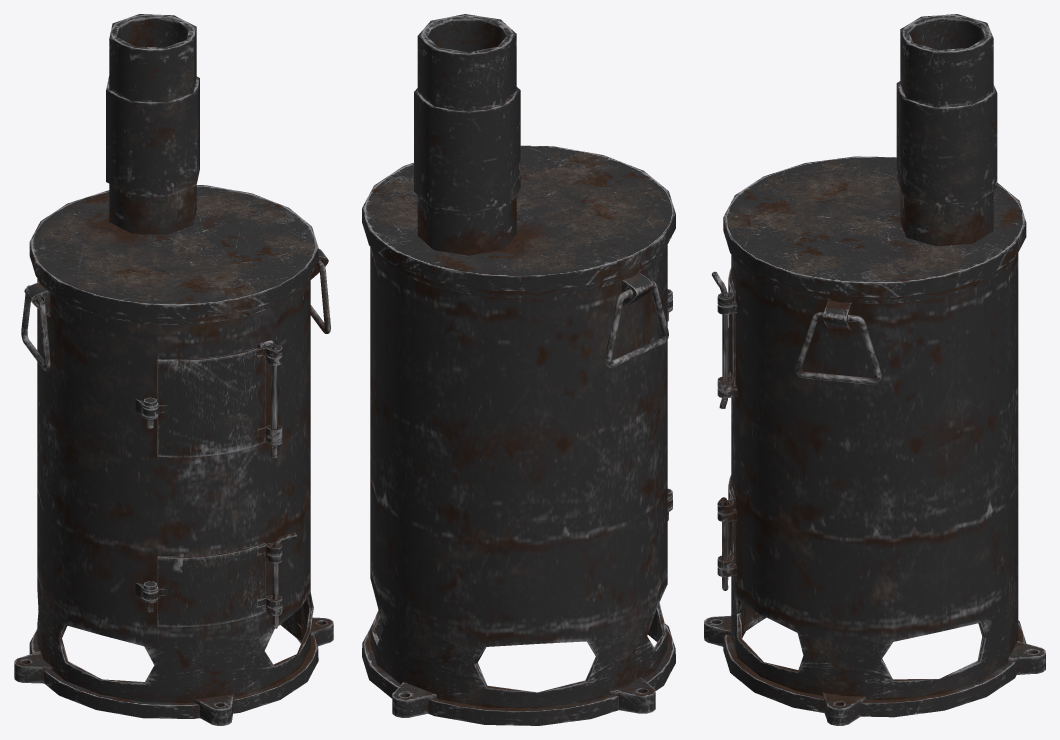
File: SM_Stove.fbx
3 renders of one model, left to right at view 1: azimuth 30°, elevation 25°; view 2: azimuth 150°, elevation 25°; view 3: azimuth 270°, elevation 25°, orthographic. The views are drawn at different scales.
Parts seen in each view (by area): view 1: Potbelly_Stove_Lowpoly; view 2: Potbelly_Stove_Lowpoly; view 3: Potbelly_Stove_Lowpoly.
Part boxes in pixels (x1=…): Potbelly_Stove_Lowpoly: x1=14, y1=14, x2=333, y2=725; Potbelly_Stove_Lowpoly: x1=362, y1=14, x2=675, y2=725; Potbelly_Stove_Lowpoly: x1=704, y1=14, x2=1045, y2=725.
Size of the model in its own units: 146 by 296 by 146.
Materials: 1 (1 with a texture image).
